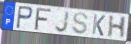F: (33, 8, 54, 32)
H: (106, 15, 128, 40)
J: (54, 10, 71, 34)
K: (91, 13, 107, 37)
P: (15, 5, 34, 31)
S: (71, 11, 90, 35)
